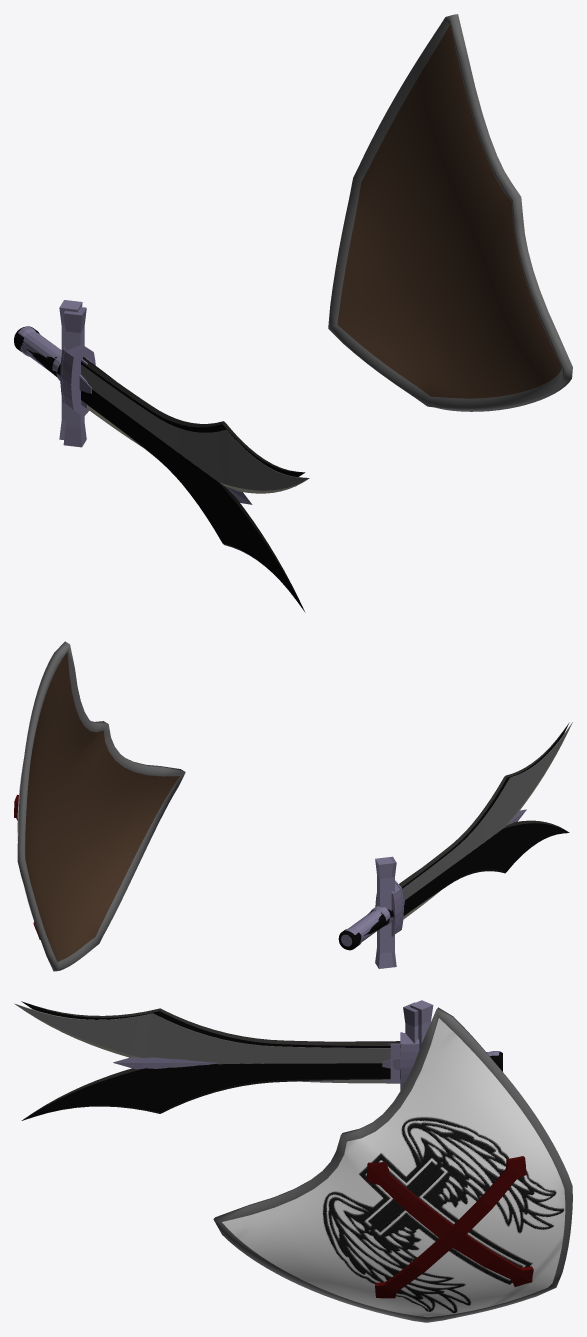
Rendered from Weapons.fbx.
3 views of the same model, one above another, from view 1: azimuth 30°, elevation 25°; view 2: azimuth 150°, elevation 25°; view 3: azimuth 270°, elevation 25° (orthographic). The views are drawn at different scales.
Parts seen in each view (by area): view 1: JesusShield, Double-sidedScimi, Tutorial Scimitar, Seth Sword; view 2: JesusShield, Double-sidedScimi, Tutorial Scimitar, Seth Sword; view 3: JesusShield, Double-sidedScimi, Tutorial Scimitar, Emblem, Seth Sword.
Part boxes in pixels (x1,y1,x2,y2): JesusShield: (328,14,572,411); Double-sidedScimi: (18,300,305,612); Tutorial Scimitar: (20,307,309,493); Seth Sword: (14,326,252,504); JesusShield: (17,641,185,971); Double-sidedScimi: (341,722,569,968); Tutorial Scimitar: (358,722,572,967); Seth Sword: (338,809,526,950); JesusShield: (213,1007,572,1322); Double-sidedScimi: (21,1000,499,1120); Tutorial Scimitar: (14,1002,418,1083); Emblem: (366,1156,533,1298); Seth Sword: (113,1032,502,1090).
Bounding box in the file's own units: 0.9118 × 0.762 × 1.18.
